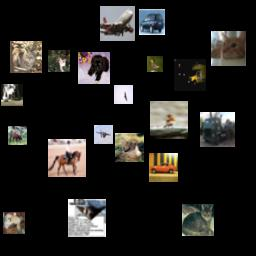airplane: (68, 199, 106, 237), (100, 6, 135, 41), (94, 125, 113, 144)
automobile: (149, 153, 178, 182), (139, 9, 165, 35)
bird: (150, 101, 188, 139), (114, 85, 133, 104), (147, 56, 163, 72)
cat: (211, 31, 246, 66), (182, 204, 214, 236), (10, 41, 42, 73), (115, 133, 144, 162), (48, 50, 70, 72)
deer: (8, 126, 27, 145)
dog: (78, 52, 110, 84), (3, 212, 25, 234), (1, 84, 23, 106)
truck: (200, 112, 235, 147), (174, 59, 206, 91)
